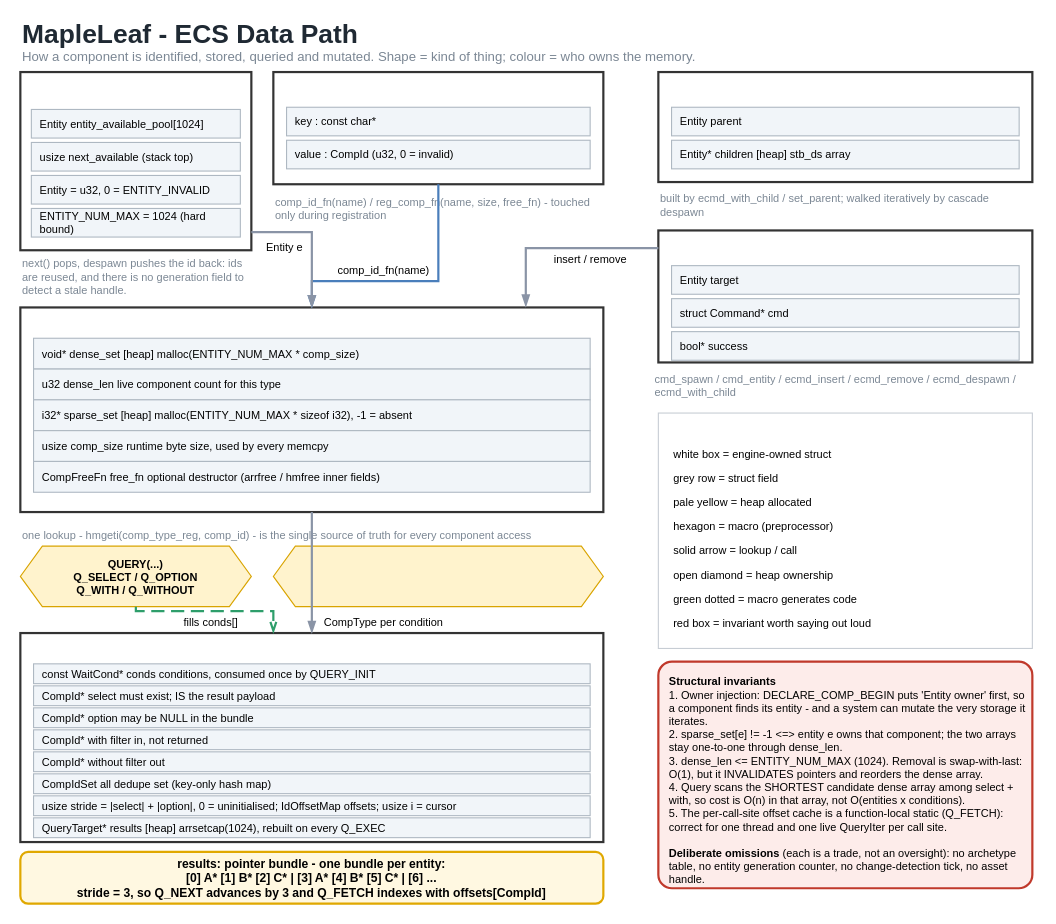
The diagram is 1056 pixels wide and 924 high, and some of its shapes have lost their labels. The shapes that lost their labels are listed below. From the top down, each one's box as (x1, y1, x2, y2) in pixels, then its label:
(272, 70, 604, 185): CompNameReg (string hash map)
(657, 70, 1033, 183): FiliationReg (hash map)
(19, 70, 252, 251): Entity pool (static free stack)
(657, 229, 1033, 363): EntityCommand (chainable handle)
(19, 306, 604, 513): CompTypeReg (hash map: CompId to CompType - type-erased storage)
(657, 412, 1032, 648): Legend
(272, 545, 603, 607): IMPL_COMP(T) DECLARE_COMP_BEGIN / END
(19, 631, 604, 843): QueryIter (stack value, lives inside one system)
